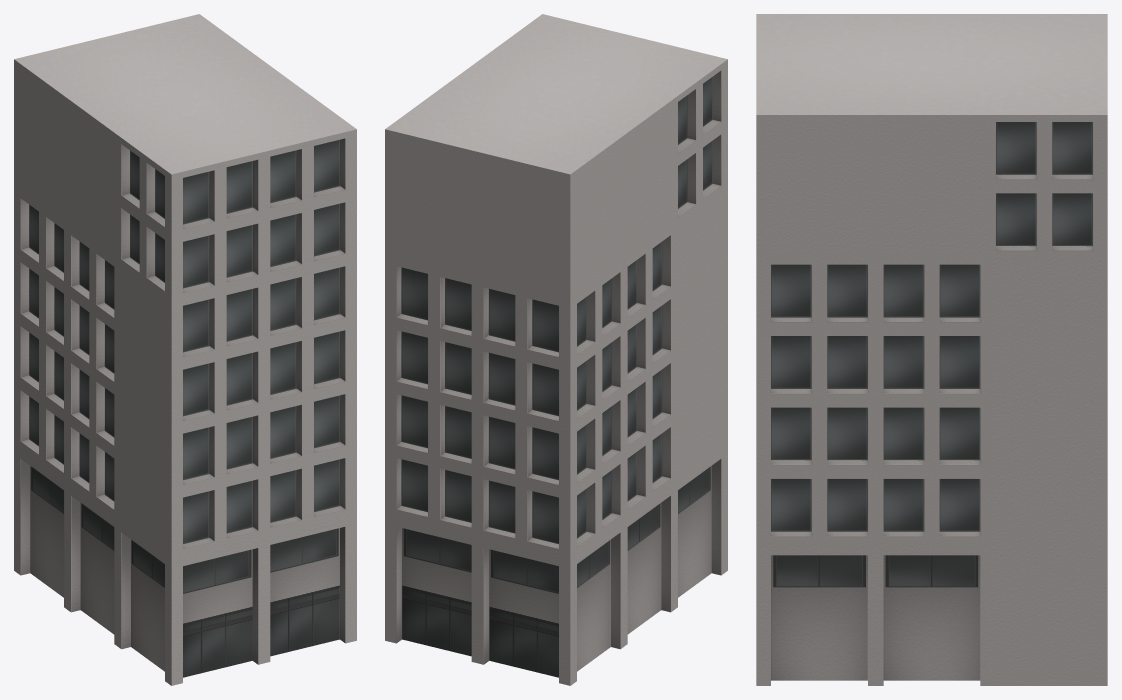
The model's file is BgMD_goto_Building_02_03.fbx.
The picture shows the model from 3 angles, left to right: view 1: azimuth 30°, elevation 25°; view 2: azimuth 150°, elevation 25°; view 3: azimuth 270°, elevation 25°; orthographic projection. The views are drawn at different scales.
Visible parts, largest first — view 1: BgMD_goto_Building_02_03; view 2: BgMD_goto_Building_02_03; view 3: BgMD_goto_Building_02_03.
Boxes of the visible parts, left/top/right/bottom form: BgMD_goto_Building_02_03: left=14, top=14, right=356, bottom=685; BgMD_goto_Building_02_03: left=385, top=14, right=727, bottom=685; BgMD_goto_Building_02_03: left=756, top=14, right=1107, bottom=685.
Size of the model in its own units: 1381 by 3640 by 2031.
1 material, 1 textured.
